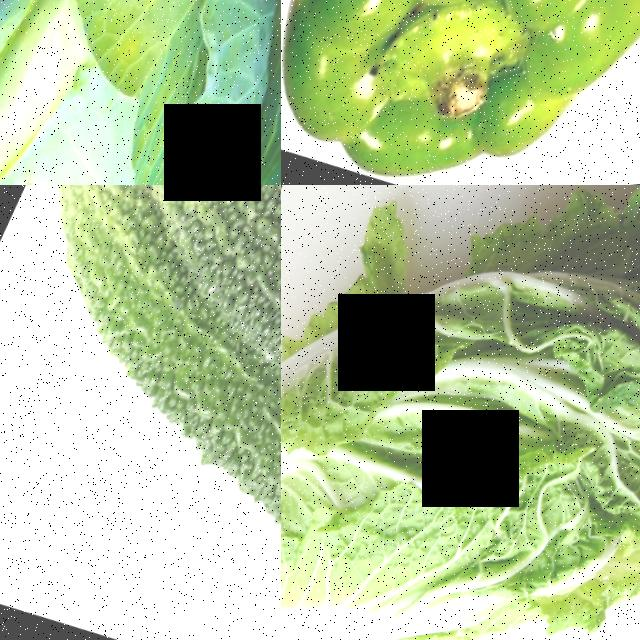bell pepper: (281, 0, 640, 185)
bitter gourd: (49, 328, 281, 589), (190, 236, 281, 438)
cabbage: (281, 185, 640, 640), (0, 0, 281, 185)
